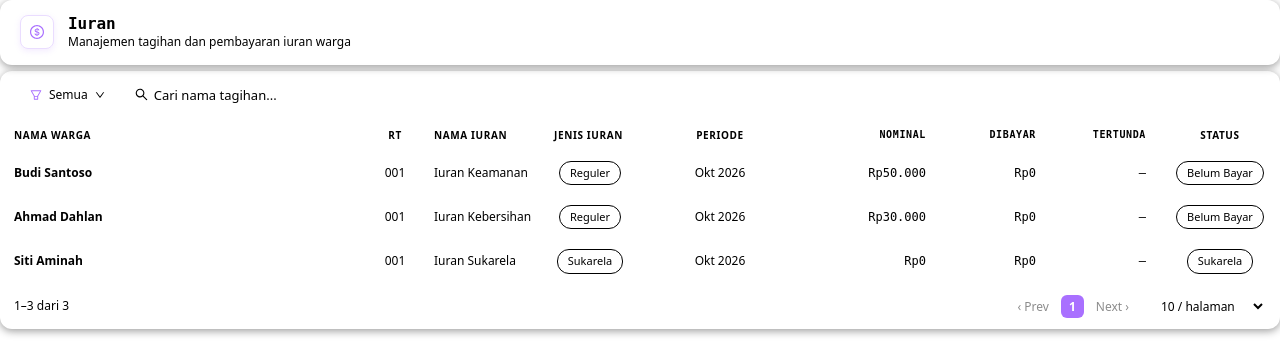
Test: IuranList - Pagination and Bill Name Search › clearing search query restores full list without stale filter
Expected: the text "Budi Santoso" is shown, top-left (14, 164), bottom-right (92, 181)
Type "Kebersihan" into the field with placeholder "Cari nama tagihan...". click: {"x": 316, "y": 95}
box: top-left (154, 84), bottom-right (479, 106)
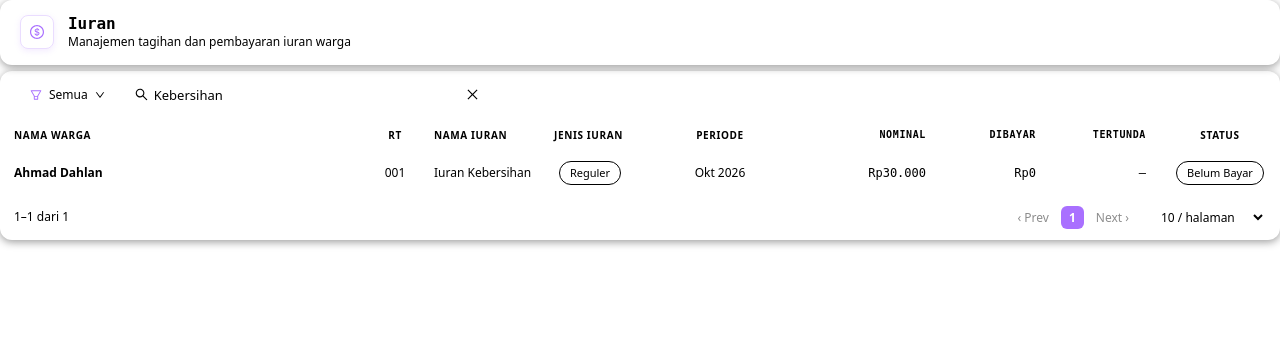
Expected: the text "Iuran Kebersihan" is shown, top-left (420, 151), bottom-right (540, 195)
Result: the button "Iuran Keamanan" is gone
# Clear search
Clear the field with placeholder "Cari nama tagihan...". click: {"x": 307, "y": 95}
box: top-left (154, 84), bottom-right (460, 106)
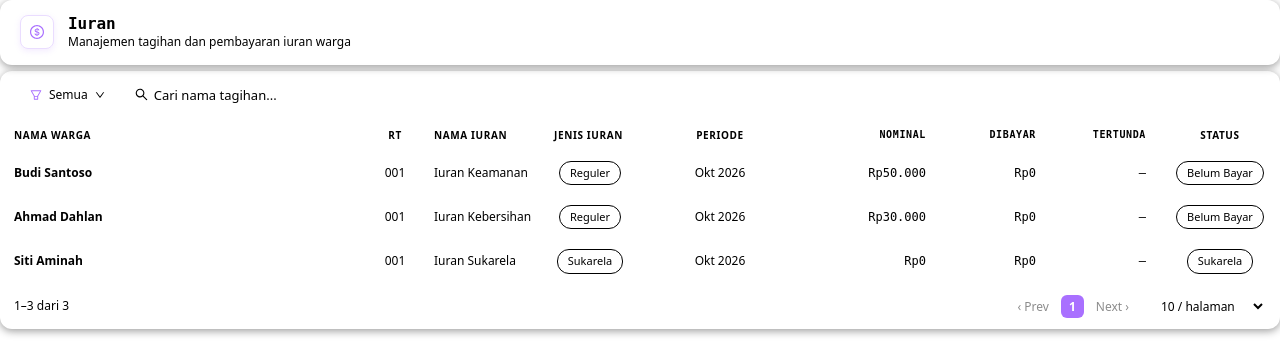
Expected: the text "Iuran Kebersihan" is shown, top-left (420, 195), bottom-right (540, 239)
Result: the text "Iuran Keamanan" is shown at top-left (420, 151), bottom-right (540, 195)
Result: the text "Iuran Sukarela" is shown at top-left (420, 239), bottom-right (540, 284)
